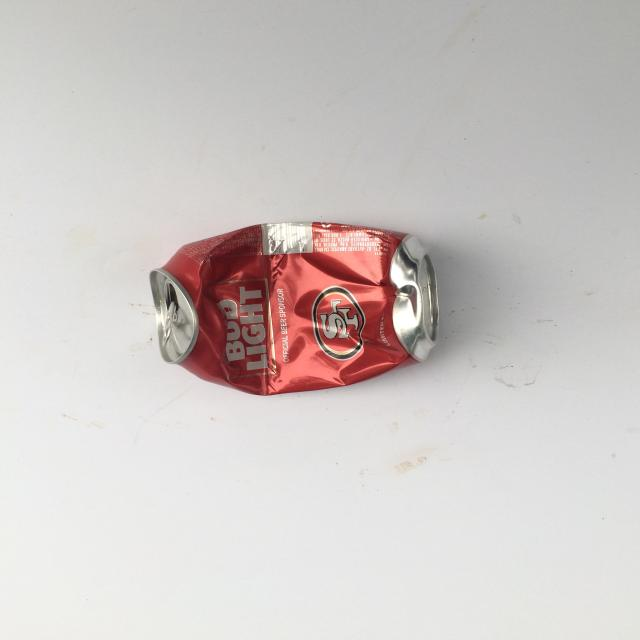metal: (148, 220, 440, 396)
